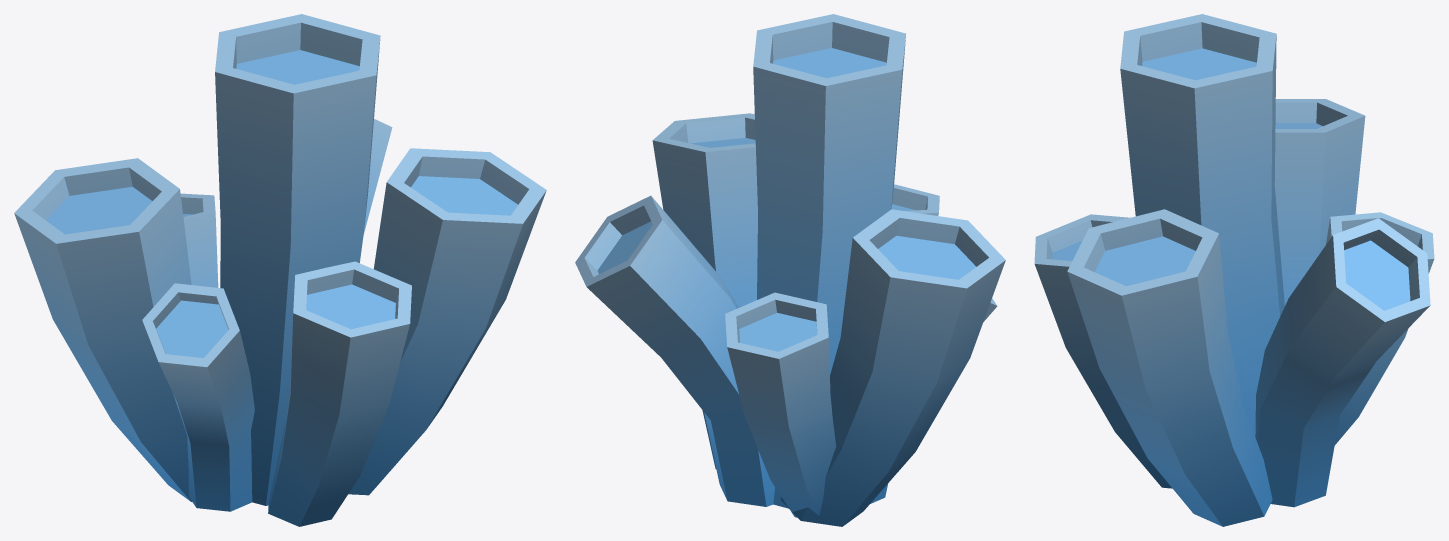
Rendered from CoralReef_09.fbx.
The picture shows the model from 3 angles, left to right: view 1: azimuth 30°, elevation 25°; view 2: azimuth 150°, elevation 25°; view 3: azimuth 270°, elevation 25°; orthographic projection. The views are drawn at different scales.
Parts seen in each view (by area): view 1: CoralReef_09_LOD0; view 2: CoralReef_09_LOD0; view 3: CoralReef_09_LOD0.
Boxes of the visible parts, left/top/right/bottom form: CoralReef_09_LOD0: left=14, top=14, right=546, bottom=526; CoralReef_09_LOD0: left=575, top=14, right=1005, bottom=526; CoralReef_09_LOD0: left=1034, top=14, right=1434, bottom=526.
Size of what is drawn, in the model's own units: 0.2463 by 0.2533 by 0.2129.
